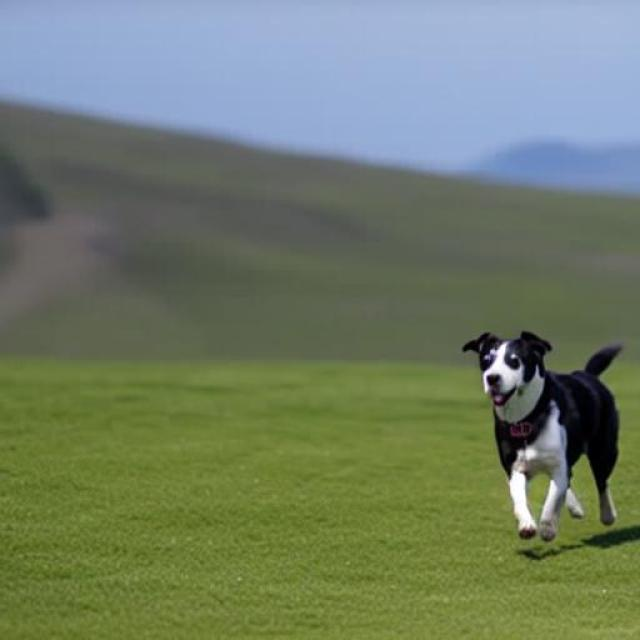Dog: (461, 328, 623, 542)
